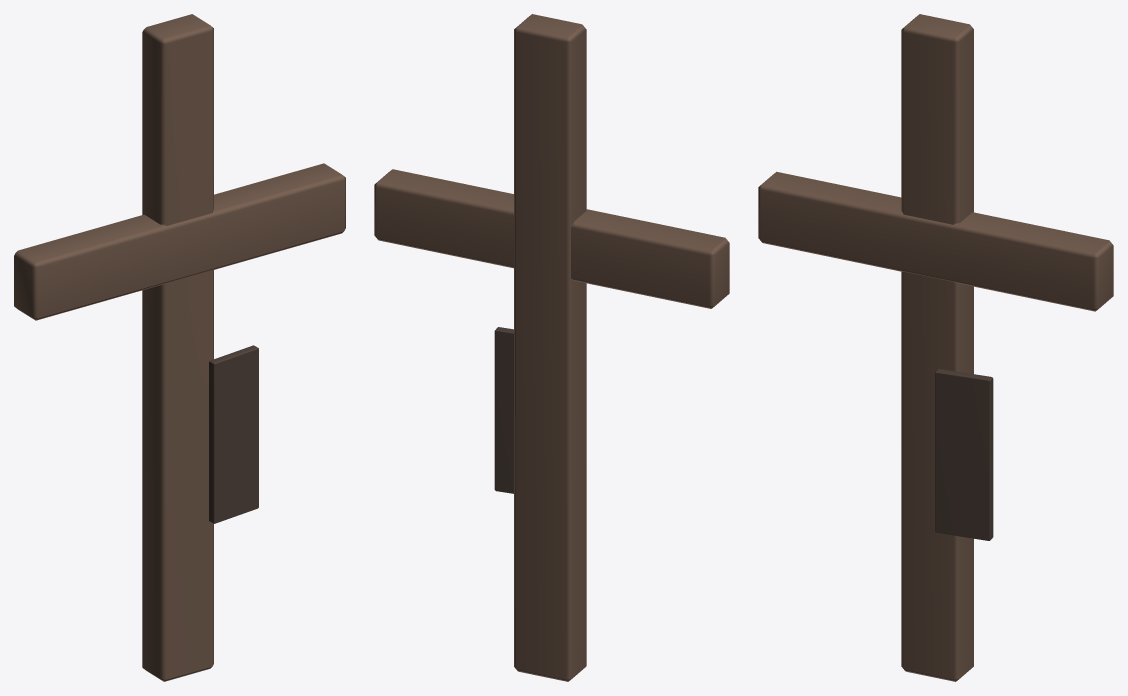
File: prop_old_crucifix_01.glb
The picture shows the model from 3 angles, left to right: view 1: azimuth 30°, elevation 25°; view 2: azimuth 150°, elevation 25°; view 3: azimuth 330°, elevation 25°; orthographic projection.
Visible parts, largest first — view 1: crucifix_vertical.002, crucifix_horizontal.002, crucifix_dark_stain.002; view 2: crucifix_vertical.002, crucifix_horizontal.002, crucifix_dark_stain.002; view 3: crucifix_vertical.002, crucifix_horizontal.002, crucifix_dark_stain.002.
Part boxes in pixels (x1=…): crucifix_vertical.002: x1=142, y1=14, x2=213, y2=681; crucifix_horizontal.002: x1=14, y1=163, x2=345, y2=320; crucifix_dark_stain.002: x1=209, y1=345, x2=258, y2=523; crucifix_vertical.002: x1=514, y1=14, x2=586, y2=681; crucifix_horizontal.002: x1=374, y1=169, x2=729, y2=308; crucifix_dark_stain.002: x1=494, y1=327, x2=513, y2=493; crucifix_vertical.002: x1=901, y1=14, x2=973, y2=681; crucifix_horizontal.002: x1=758, y1=171, x2=1113, y2=311; crucifix_dark_stain.002: x1=935, y1=368, x2=993, y2=540.
Bounding box in the file's own units: 0.3211 × 0.6 × 0.0584.
